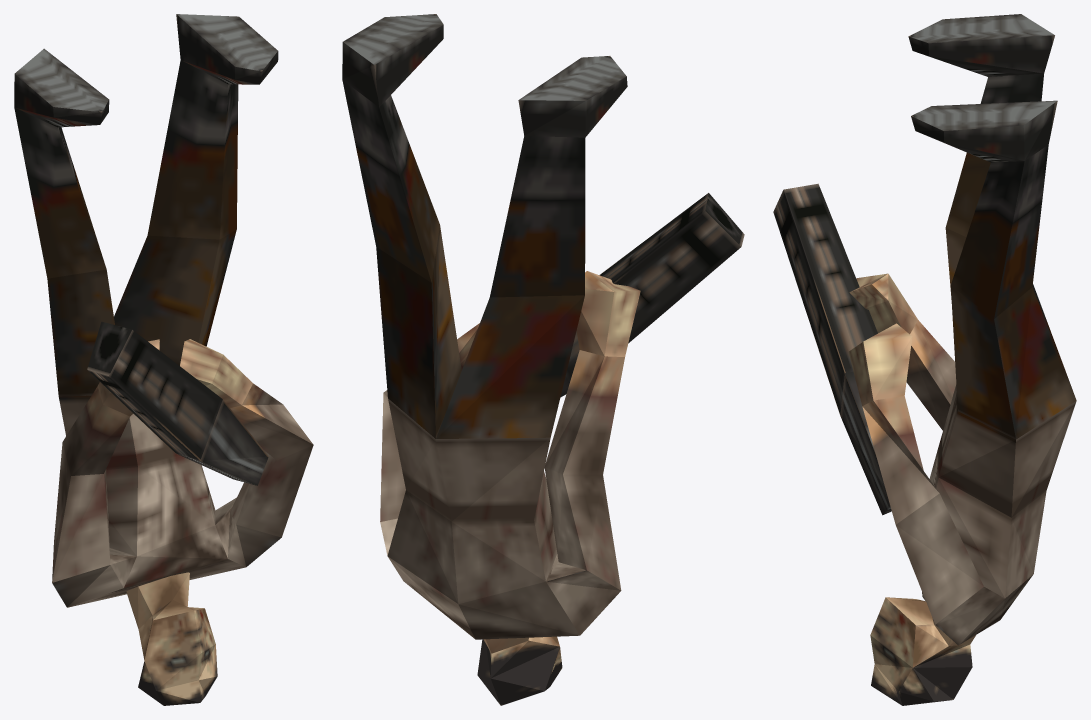
The model's file is GOON_000002.obj.
3 renders of one model, left to right at view 1: azimuth 30°, elevation 25°; view 2: azimuth 150°, elevation 25°; view 3: azimuth 270°, elevation 25°, orthographic. The views are drawn at different scales.
Parts seen in each view (by area): view 1: Cube_Cube.001; view 2: Cube_Cube.001; view 3: Cube_Cube.001.
Boxes of the visible parts, box(x1,y1,x2,y2) form: Cube_Cube.001: box(14, 14, 313, 705); Cube_Cube.001: box(342, 14, 744, 705); Cube_Cube.001: box(773, 14, 1076, 705).
Bounding box in the file's own units: 11.64 × 25.13 × 10.92.
